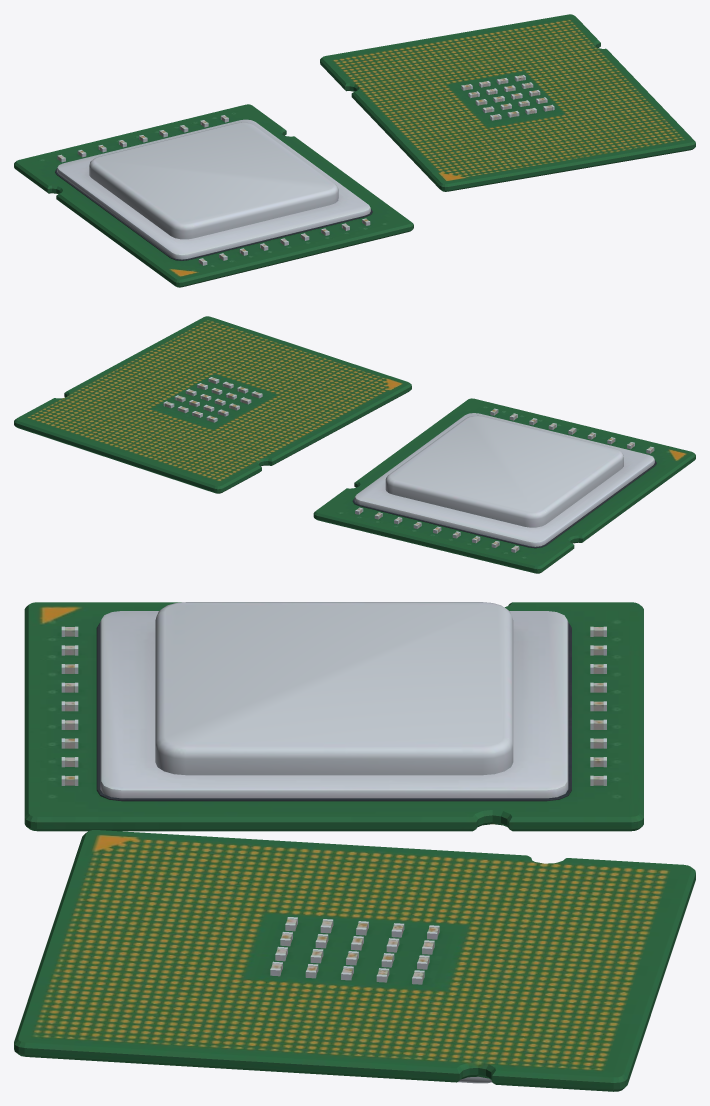
Rendered from cpu-studio.glb.
3 views of the same model, one above another, from view 1: azimuth 30°, elevation 25°; view 2: azimuth 150°, elevation 25°; view 3: azimuth 270°, elevation 25° (orthographic). The views are drawn at different scales.
Parts seen in each view (by area): view 1: cpu_body; view 2: cpu_body; view 3: cpu_body.
Part boxes in pixels (<box>): cpu_body: <box>14,14,695,287</box>; cpu_body: <box>14,316,695,573</box>; cpu_body: <box>14,602,695,1091</box>.
Bounding box in the file's own units: 0.0873 × 0.00444 × 0.0495.
Materials: 1 (1 with a texture image).
